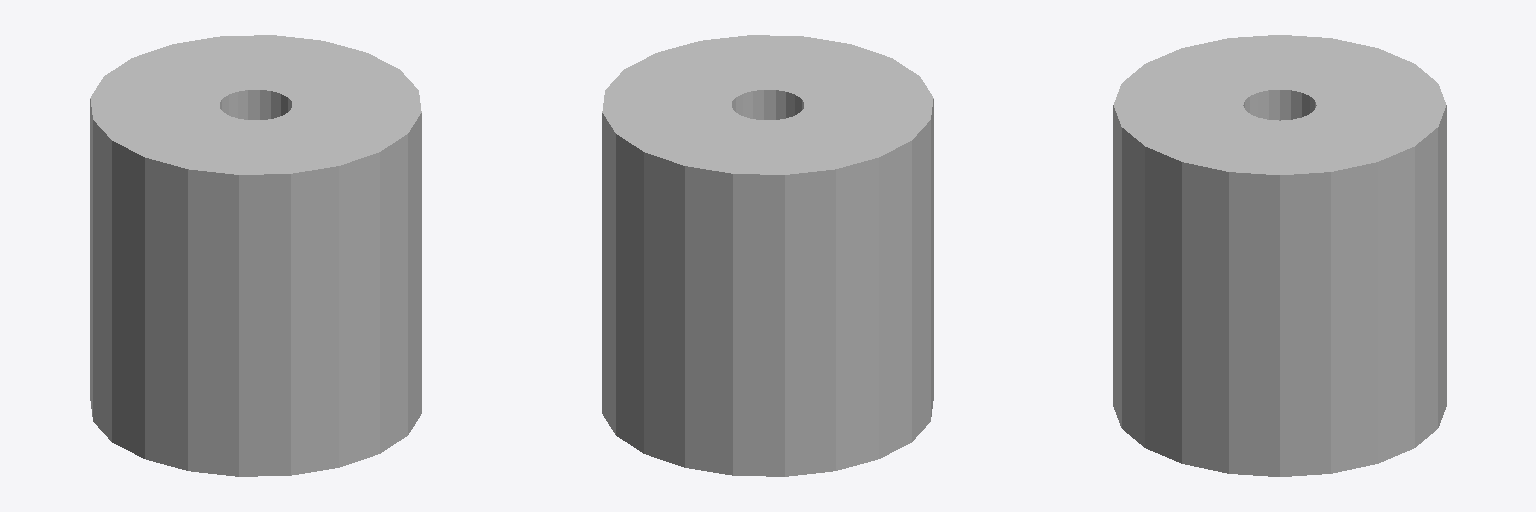
The model's file is ToiletPaper.obj.
3 views of the same model, side by side, from view 1: azimuth 30°, elevation 25°; view 2: azimuth 150°, elevation 25°; view 3: azimuth 270°, elevation 25° (orthographic).
Parts seen in each view (by area): view 1: pCylinder1; view 2: pCylinder1; view 3: pCylinder1.
Boxes of the visible parts, x1=… form: pCylinder1: x1=90, y1=35, x2=421, y2=476; pCylinder1: x1=602, y1=35, x2=933, y2=476; pCylinder1: x1=1113, y1=35, x2=1446, y2=476.
Bounding box in the file's own units: 2 × 2 × 2.